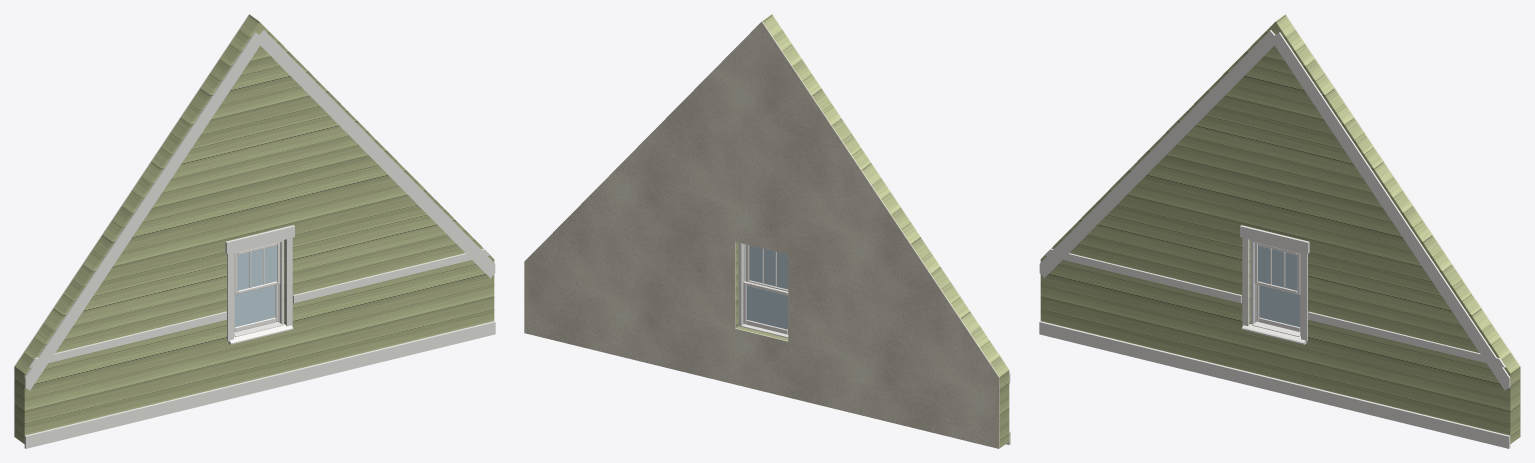
The model's file is gable_siding_center.glb.
3 renders of one model, left to right at view 1: azimuth 30°, elevation 25°; view 2: azimuth 150°, elevation 25°; view 3: azimuth 330°, elevation 25°, orthographic.
Parts seen in each view (by area): view 1: gable_siding_center_siding, gable_siding_center_trim, gable_siding_center_glass, gable_siding_center_sash, gable_siding_center_frame, gable_siding_center_plaster; view 2: gable_siding_center_plaster, gable_siding_center_siding, gable_siding_center_glass, gable_siding_center_sash, gable_siding_center_frame; view 3: gable_siding_center_siding, gable_siding_center_trim, gable_siding_center_glass, gable_siding_center_sash, gable_siding_center_frame, gable_siding_center_plaster.
Part boxes in pixels (bbox=[...]): gable_siding_center_siding: bbox=[15, 15, 494, 443]; gable_siding_center_trim: bbox=[24, 30, 495, 448]; gable_siding_center_glass: bbox=[235, 245, 276, 327]; gable_siding_center_sash: bbox=[234, 242, 280, 331]; gable_siding_center_frame: bbox=[234, 240, 284, 336]; gable_siding_center_plaster: bbox=[14, 14, 249, 436]; gable_siding_center_plaster: bbox=[524, 21, 999, 448]; gable_siding_center_siding: bbox=[735, 14, 1009, 447]; gable_siding_center_glass: bbox=[746, 245, 788, 329]; gable_siding_center_sash: bbox=[743, 244, 788, 334]; gable_siding_center_frame: bbox=[738, 242, 745, 326]; gable_siding_center_siding: bbox=[1040, 15, 1519, 443]; gable_siding_center_trim: bbox=[1039, 30, 1510, 448]; gable_siding_center_glass: bbox=[1258, 245, 1299, 327]; gable_siding_center_sash: bbox=[1254, 242, 1300, 331]; gable_siding_center_frame: bbox=[1250, 240, 1300, 336]; gable_siding_center_plaster: bbox=[1285, 14, 1520, 436].
Bounding box in the file's own units: 8 × 6.01 × 0.38.
6 materials, 2 textured.
